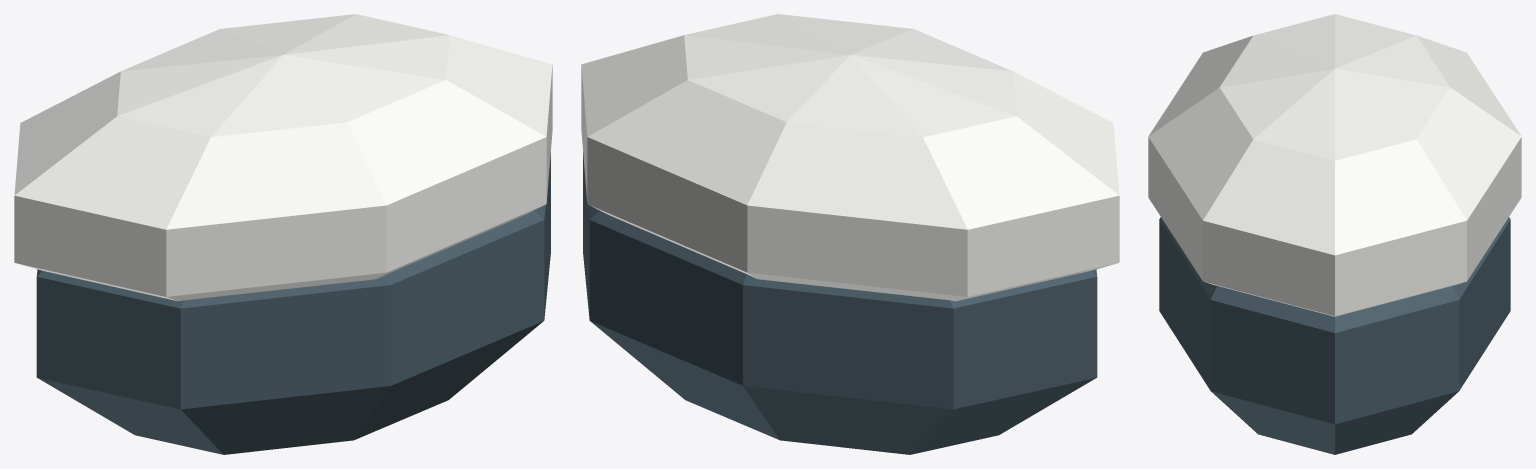
The model's file is boulder.glb.
3 renders of one model, left to right at view 1: azimuth 30°, elevation 25°; view 2: azimuth 150°, elevation 25°; view 3: azimuth 270°, elevation 25°, orthographic. The views are drawn at different scales.
Parts seen in each view (by area): view 1: snow-capped-boulder-snow, snow-capped-boulder-iron; view 2: snow-capped-boulder-snow, snow-capped-boulder-iron; view 3: snow-capped-boulder-snow, snow-capped-boulder-iron.
Boxes of the visible parts, bbox=[...] form: snow-capped-boulder-snow: bbox=[14, 14, 552, 301]; snow-capped-boulder-iron: bbox=[36, 152, 550, 454]; snow-capped-boulder-snow: bbox=[581, 14, 1119, 301]; snow-capped-boulder-iron: bbox=[583, 152, 1097, 454]; snow-capped-boulder-snow: bbox=[1148, 14, 1521, 316]; snow-capped-boulder-iron: bbox=[1159, 217, 1510, 454].
Size of the model in its own units: 2.07 by 1.38 by 1.37.
